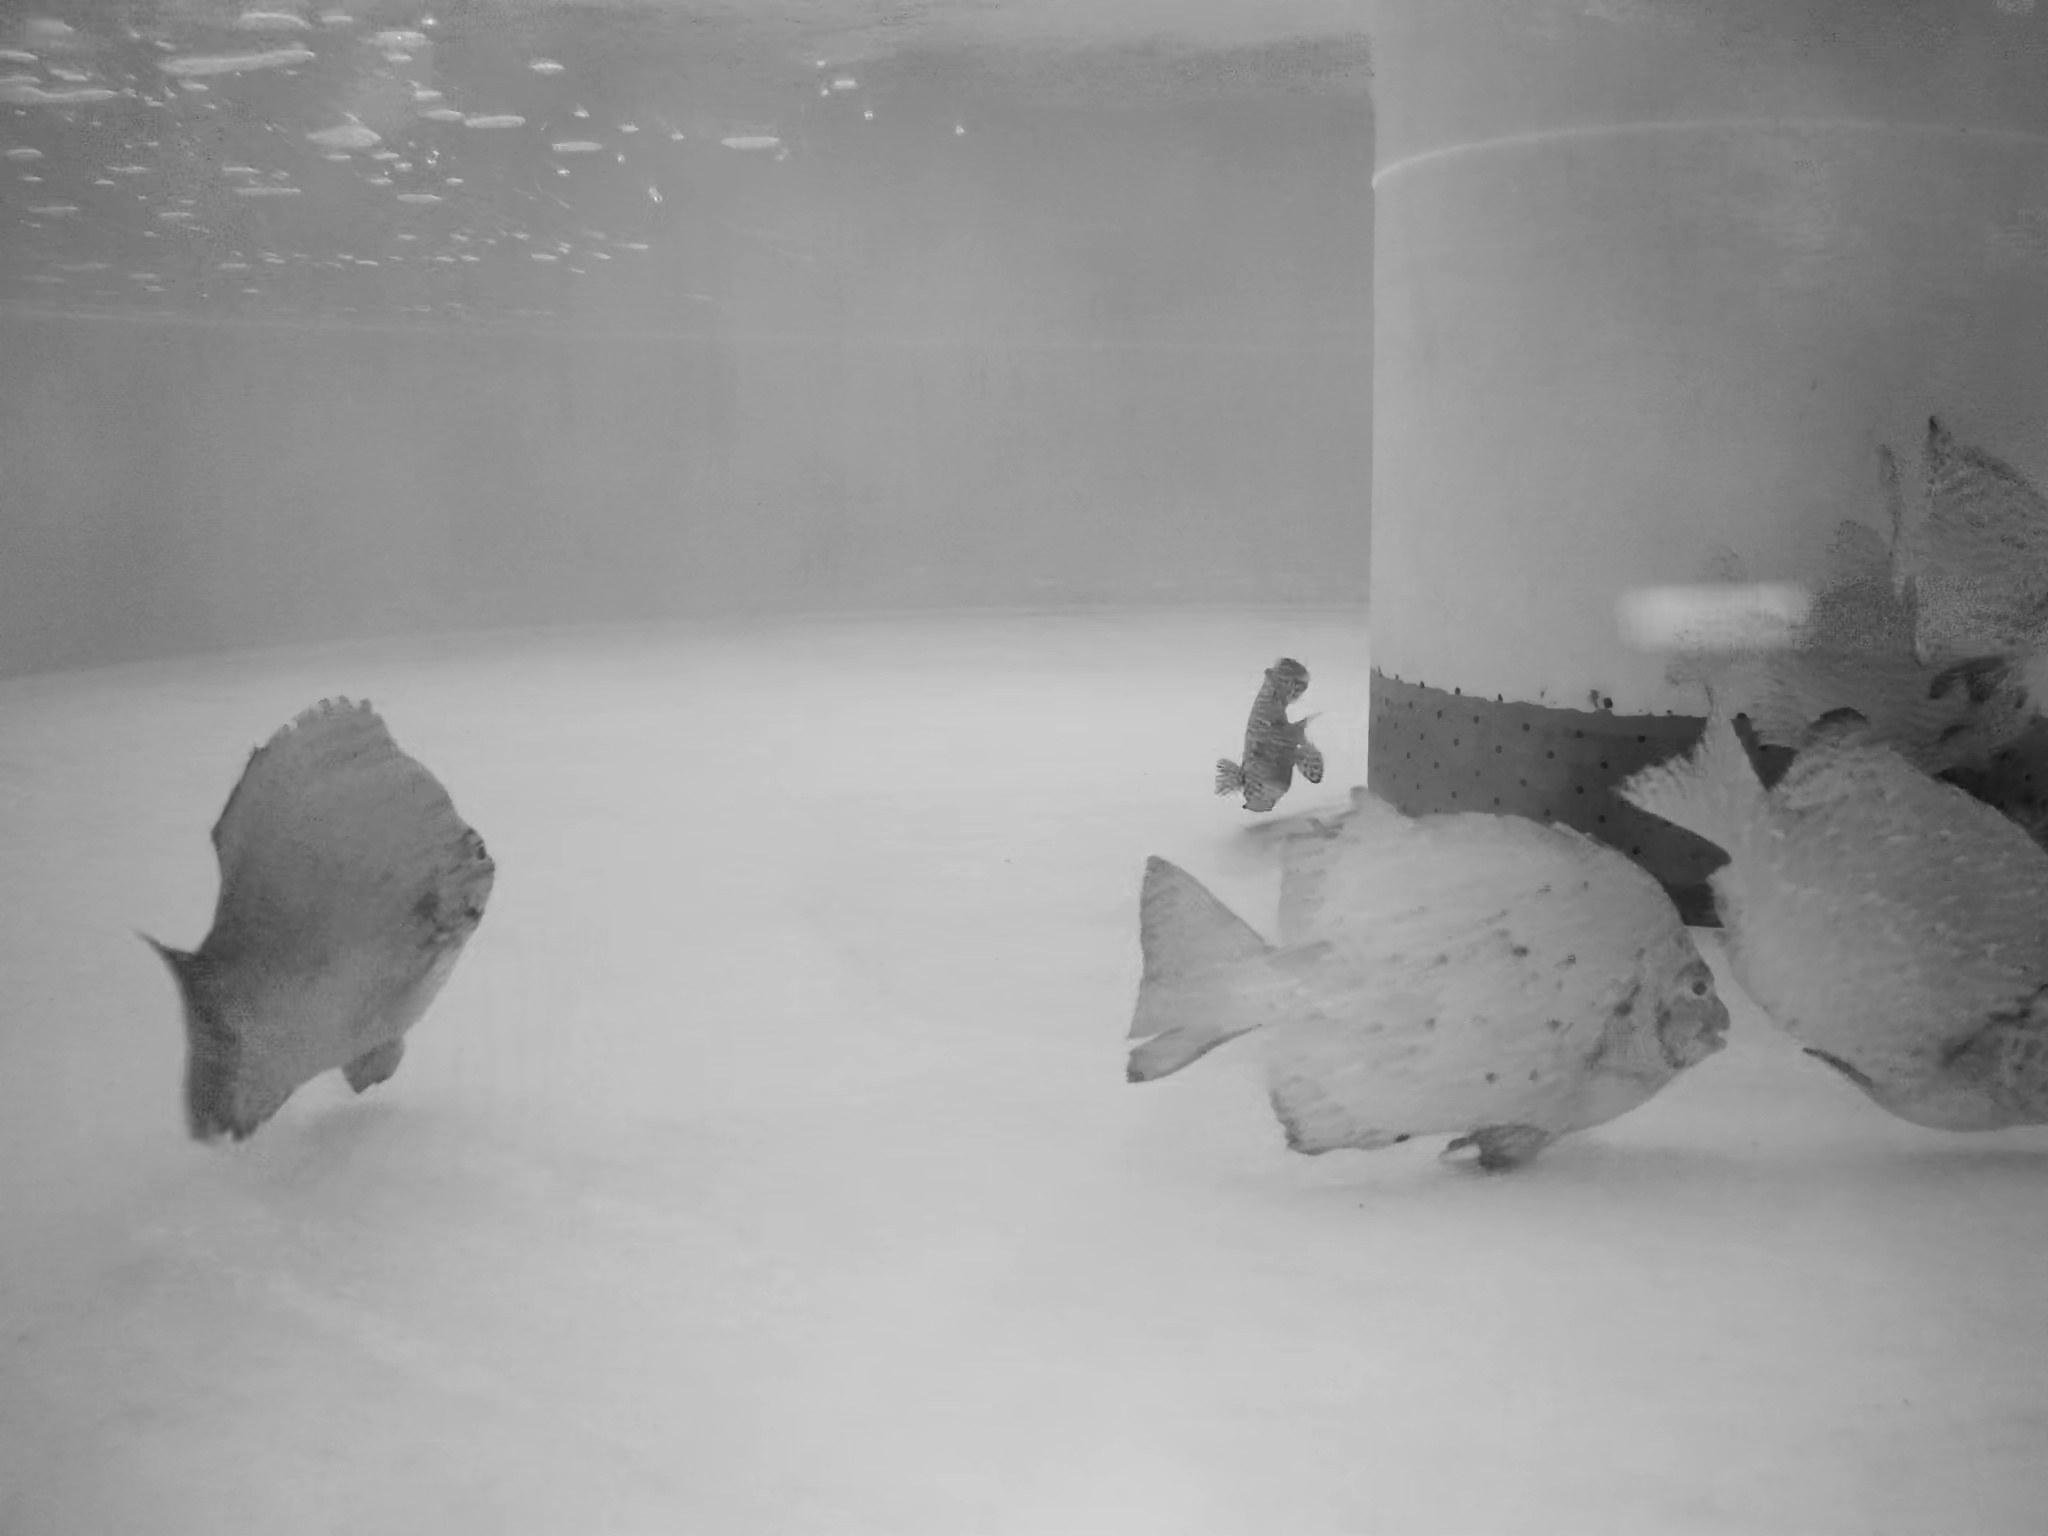fish: (1116, 815, 1730, 1163), (1653, 684, 2048, 1149), (139, 689, 493, 1152), (1674, 524, 2038, 765), (1913, 424, 2048, 695), (1218, 653, 1327, 829)
